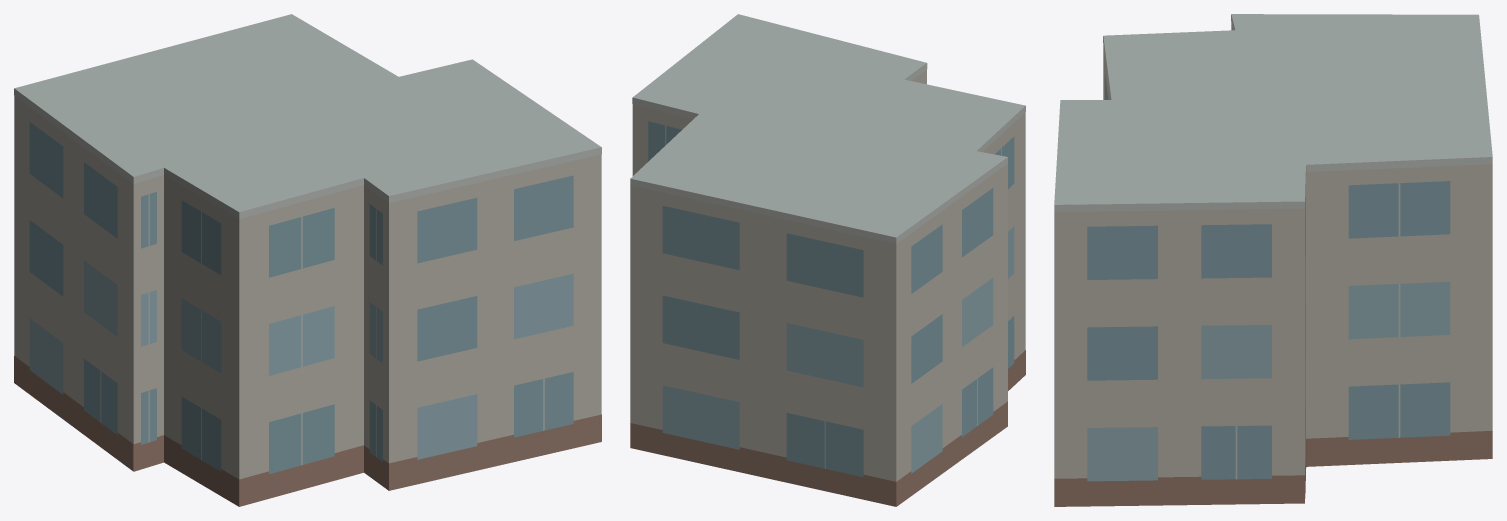
File: survey-upis-32484535.glb
3 views of the same model, side by side, from view 1: azimuth 30°, elevation 25°; view 2: azimuth 150°, elevation 25°; view 3: azimuth 270°, elevation 25° (orthographic). The views are drawn at different scales.
Parts seen in each view (by area): view 1: survey-upis-32484535.tmp; view 2: survey-upis-32484535.tmp; view 3: survey-upis-32484535.tmp.
Part boxes in pixels (x1,y1,x2,y2): survey-upis-32484535.tmp: (14,14,601,506); survey-upis-32484535.tmp: (630,14,1025,506); survey-upis-32484535.tmp: (1054,14,1492,506).
Bounding box in the file's own units: 13.84 × 10.2 × 13.44.
